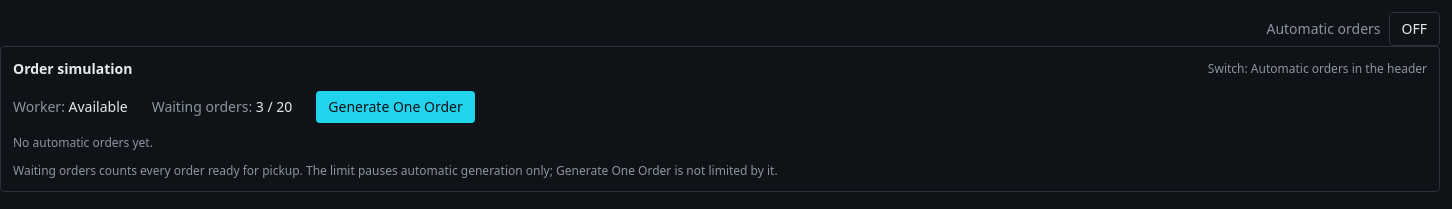
Test: OrderSimulationPanel › turns on only after the backend confirms, then shows the server state
Click the switch named "Automatic orders" at (1414,29), box [1388,12,1440,46]
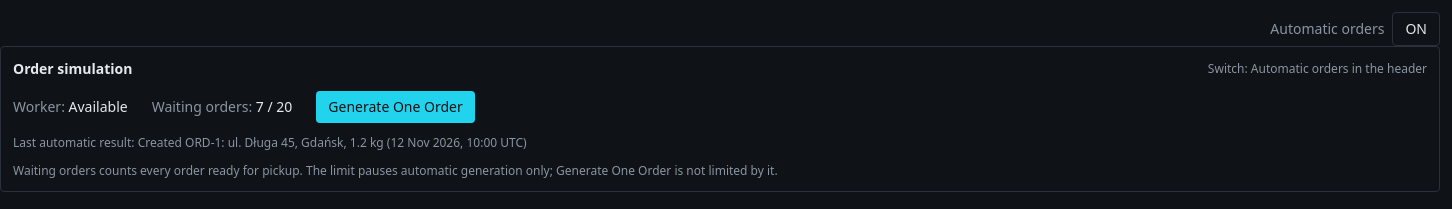
expect the switch is checked: met, box [1392,12,1440,46]
